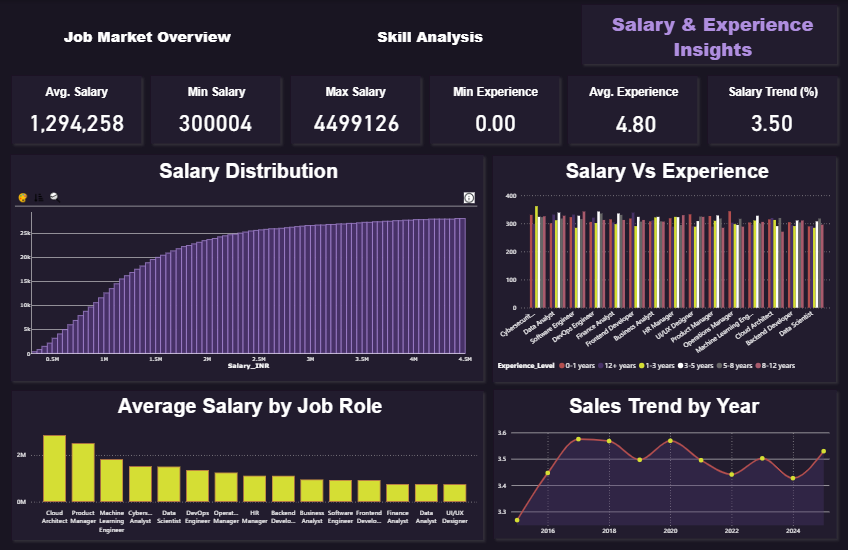

The page's visual inventory and layout, read from the dashboard file:
{"tool":"powerbi","page":{"name":"Salary & Experience Insights","canvas":[1580,1020],"ordinal":2},"visuals":[{"type":"shape","box":[272.8,132,258.8,144],"z":0},{"type":"shape","box":[790.5,132,258.8,144],"z":1000},{"type":"shape","box":[1305.2,132,258.8,144],"z":2000},{"type":"shape","box":[1071.9,0,491.5,128],"z":2500},{"type":"pageNavigator","box":[18,18,1562,98],"z":3000},{"type":"shape","box":[12.5,277.5,895,437.5],"z":4000},{"type":"shape","box":[15,715,892.5,295],"z":5000},{"type":"textbox","box":[290.4,147.2,225.2,44],"z":6000},{"type":"textbox","box":[808,147.2,225.2,44],"z":7000},{"type":"textbox","box":[1322.7,147.2,225.2,44],"z":8000},{"type":"shape","box":[908,714.7,654,294.4],"z":9000},{"type":"shape","box":[14,132,258.8,144],"z":10000},{"type":"shape","box":[531.6,132,258.8,144],"z":11000},{"type":"shape","box":[1046.4,132,258.8,144],"z":12000},{"type":"histogramF963F133BA02A0B35D286F09F80E9C78","fields":{"col_2":["Job_Market_corrected.Salary_INR"]},"box":[25,347.5,867.5,350],"z":13000},{"type":"textbox","box":[31.5,147.2,225.2,44],"z":14000},{"type":"textbox","box":[549.2,147.2,225.2,44],"z":15000},{"type":"textbox","box":[1063.9,147.2,225.2,44],"z":16000},{"type":"card","fields":{"Values":["Job_Market_corrected.Avg Salary"]},"box":[31.1,192,224.2,62],"z":17000},{"type":"card","fields":{"Values":["Job_Market_corrected.Max Salary"]},"box":[549.9,192,224.2,62],"z":18000},{"type":"card","fields":{"Values":["Job_Market_corrected.Avg Experience Required"]},"box":[1060.1,194,241.3,62],"z":19000},{"type":"card","fields":{"Values":["Job_Market_corrected.Min Salary"]},"box":[289.4,192,224.2,62],"z":20000},{"type":"card","fields":{"Values":["Min(Job_Market_corrected.Experience_Min)"]},"box":[808.2,192,224.2,62],"z":21000},{"type":"card","fields":{"Values":["Job_Market_corrected.Avg Salary Trend"]},"box":[1322.7,192,222,62],"z":22000},{"type":"shape","box":[907.5,280,655,437.5],"z":23000},{"type":"clusteredColumnChart","fields":{"Category":["Job_Market_corrected.Job_Role"],"Y":["Job_Market_corrected.Avg Salary"]},"box":[27.9,786.7,865.3,211.3],"z":24000},{"type":"lineChart","fields":{"Y":["Job_Market_corrected.Avg Salary Trend"],"Category":["Job_Market_corrected.Record_Date.Variation.Date Hierarchy.Year"]},"box":[920,787.5,627.5,215],"z":25000},{"type":"clusteredColumnChart","fields":{"Category":["Job_Market_corrected.Job_Role"],"Y":["CountNonNull(Job_Market_corrected.Experience_Level)"],"Series":["Job_Market_corrected.Experience_Level"]},"box":[919.2,348.4,629.3,348.4],"z":26000},{"type":"textbox","box":[27,283.2,881,67.4],"z":27000},{"type":"textbox","box":[921.5,283.2,636,67.4],"z":28000},{"type":"textbox","box":[33.7,719.2,865.3,67.4],"z":29000},{"type":"textbox","box":[919.2,719.2,627.1,67.4],"z":30000}]}

Visuals, with their boxes in screenshot pixels (x1, y1, x2, y2), scaled from the page's 1580x1020 canvas onto the 848x550 screenshot:
shape: (146,71,285,149)
shape: (424,71,563,149)
shape: (701,71,839,149)
shape: (575,0,839,69)
pageNavigator: (10,10,847,63)
shape: (7,150,487,386)
shape: (8,386,487,545)
textbox: (156,79,277,103)
textbox: (434,79,555,103)
textbox: (710,79,831,103)
shape: (487,385,838,544)
shape: (8,71,146,149)
shape: (285,71,424,149)
shape: (562,71,701,149)
histogramF963F133BA02A0B35D286F09F80E9C78 - Job_Market_corrected.Salary_INR: (13,187,479,376)
textbox: (17,79,138,103)
textbox: (295,79,416,103)
textbox: (571,79,692,103)
card - Job_Market_corrected.Avg Salary: (17,104,137,137)
card - Job_Market_corrected.Max Salary: (295,104,415,137)
card - Job_Market_corrected.Avg Experience Required: (569,105,698,138)
card - Job_Market_corrected.Min Salary: (155,104,276,137)
card - Min(Job_Market_corrected.Experience_Min): (434,104,554,137)
card - Job_Market_corrected.Avg Salary Trend: (710,104,829,137)
shape: (487,151,839,387)
clusteredColumnChart - Job_Market_corrected.Job_Role x Job_Market_corrected.Avg Salary: (15,424,479,538)
lineChart - Job_Market_corrected.Avg Salary Trend x Job_Market_corrected.Record_Date.Variation.Date Hierarchy.Year: (494,425,831,541)
clusteredColumnChart - Job_Market_corrected.Job_Role x CountNonNull(Job_Market_corrected.Experience_Level): (493,188,831,376)
textbox: (14,153,487,189)
textbox: (495,153,836,189)
textbox: (18,388,483,424)
textbox: (493,388,830,424)
